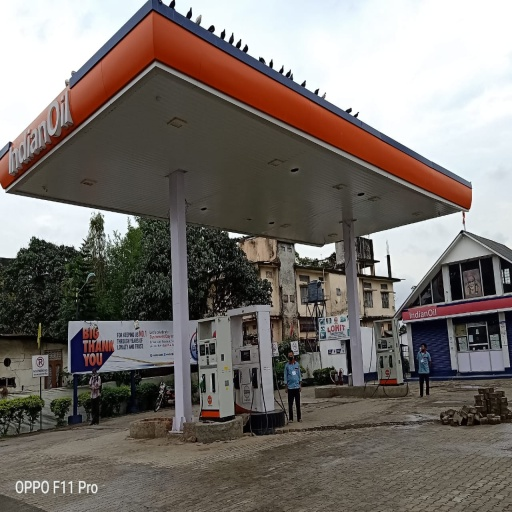roof: (1, 1, 473, 254)
